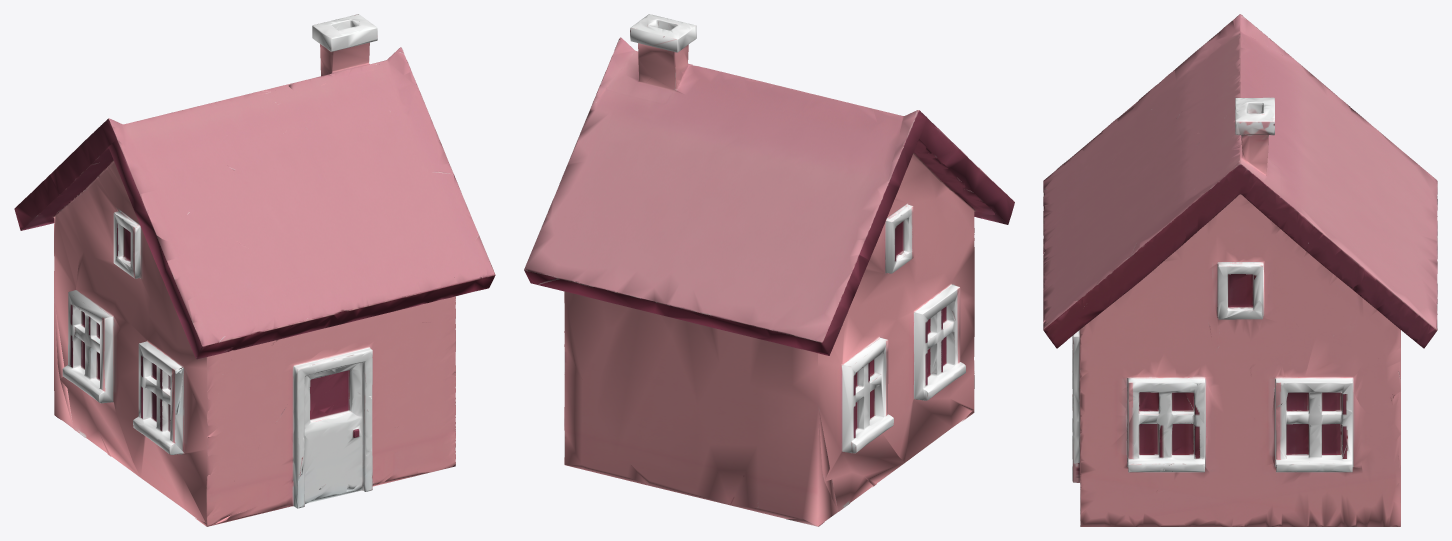
The model's file is 4953e198-a7b0-4604-9ac6-579cc8392fcb.glb.
3 views of the same model, side by side, from view 1: azimuth 30°, elevation 25°; view 2: azimuth 150°, elevation 25°; view 3: azimuth 270°, elevation 25° (orthographic). The views are drawn at different scales.
Parts seen in each view (by area): view 1: Mesh_0; view 2: Mesh_0; view 3: Mesh_0.
Part boxes in pixels (bbox=[...]): Mesh_0: bbox=[14, 14, 495, 526]; Mesh_0: bbox=[524, 14, 1014, 526]; Mesh_0: bbox=[1043, 14, 1437, 526].
Bounding box in the file's own units: 1.51 × 1.9 × 1.67.
1 material, 1 textured.
